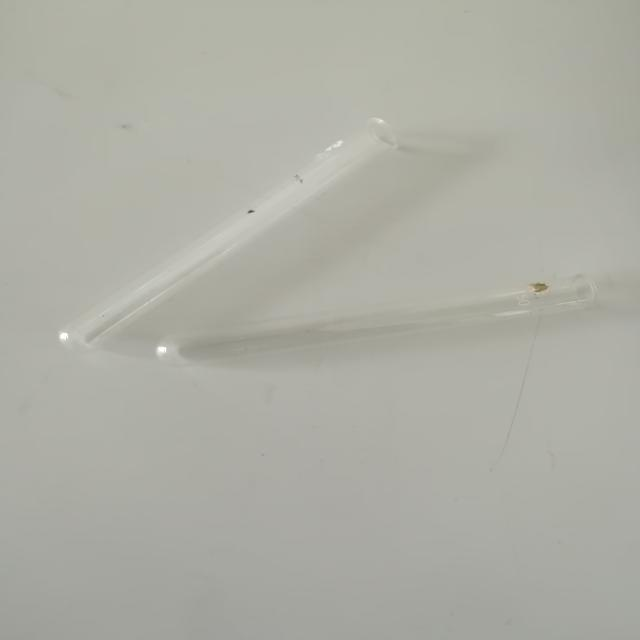Test_Tube: (39, 67, 411, 370), (120, 268, 635, 391)
